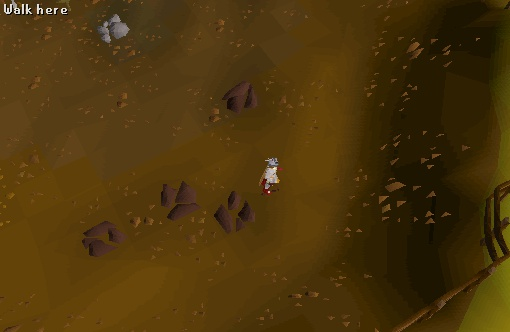iron: (210, 186, 262, 242), (152, 172, 204, 228), (79, 210, 131, 266), (218, 65, 270, 121)
